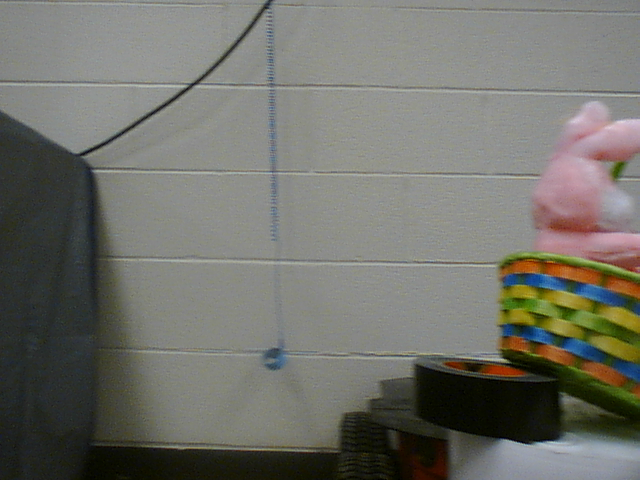bunny: (494, 84, 640, 417)
